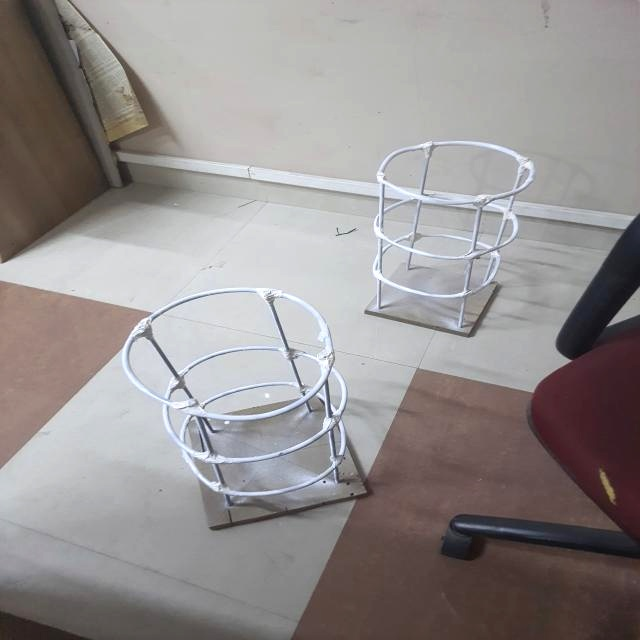silo: (111, 287, 377, 522), (357, 140, 508, 338)
